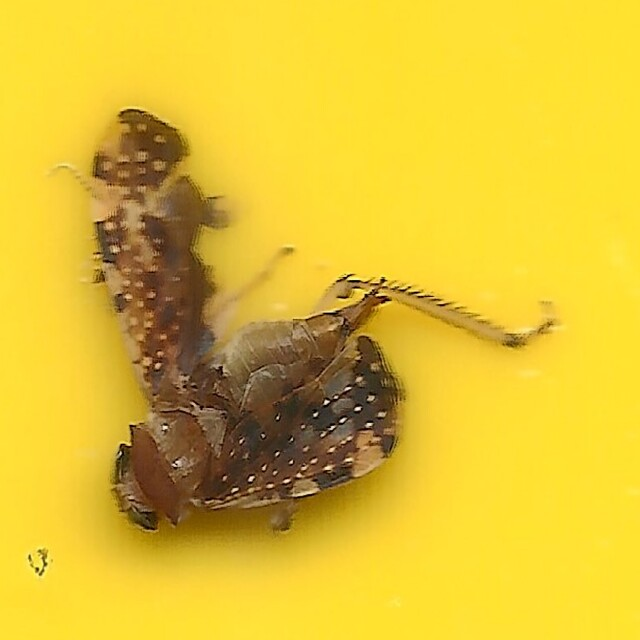Hemiptera: (84, 105, 556, 535)
